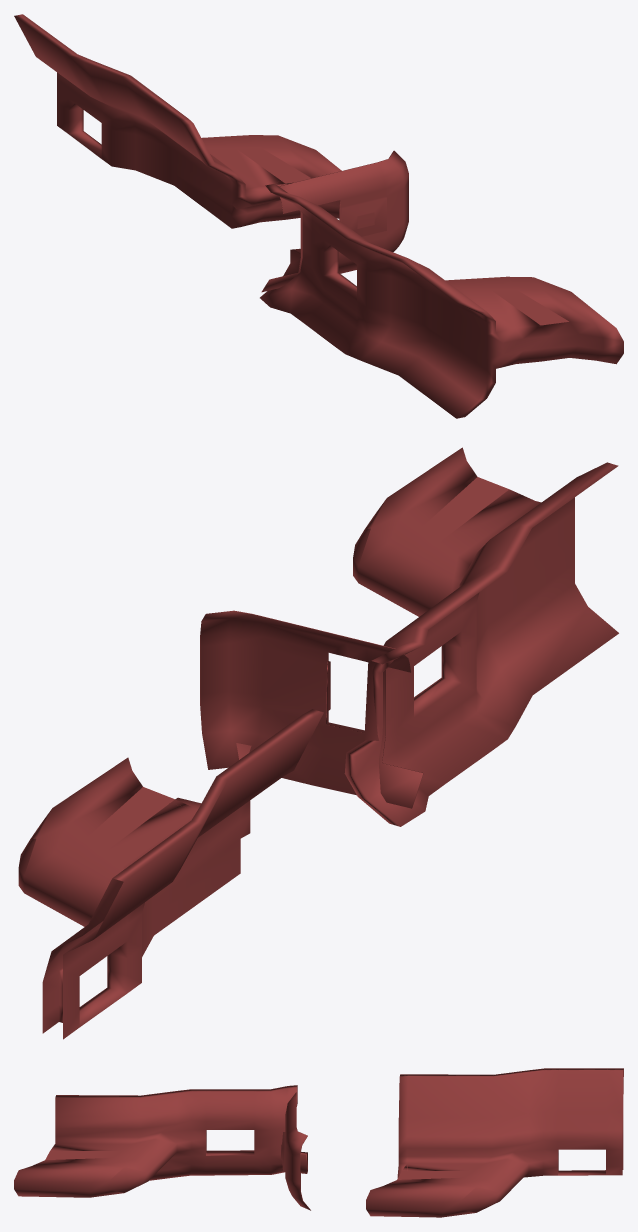
File: ext.fbx
The picture shows the model from 3 angles, top to bottom: view 1: azimuth 30°, elevation 25°; view 2: azimuth 150°, elevation 25°; view 3: azimuth 270°, elevation 25°; orthographic projection. The views are drawn at different scales.
Parts seen in each view (by area): view 1: ext, ext 3, ext 2; view 2: ext, ext 3, ext 2; view 3: ext 3, ext, ext 2.
Boxes of the visible parts, bbox=[...] form: ext: bbox=[260, 184, 623, 418]; ext 3: bbox=[14, 14, 341, 228]; ext 2: bbox=[261, 150, 408, 292]; ext: bbox=[344, 447, 618, 826]; ext 3: bbox=[18, 709, 323, 1039]; ext 2: bbox=[200, 610, 423, 808]; ext 3: bbox=[366, 1068, 623, 1217]; ext: bbox=[14, 1085, 307, 1197]; ext 2: bbox=[281, 1092, 310, 1210].
Bounding box in the file's own units: 6113 × 3867 × 22926.
